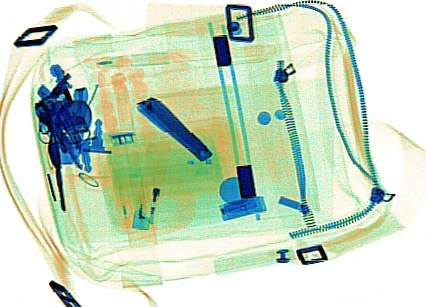lighter: (127, 143, 171, 231)
